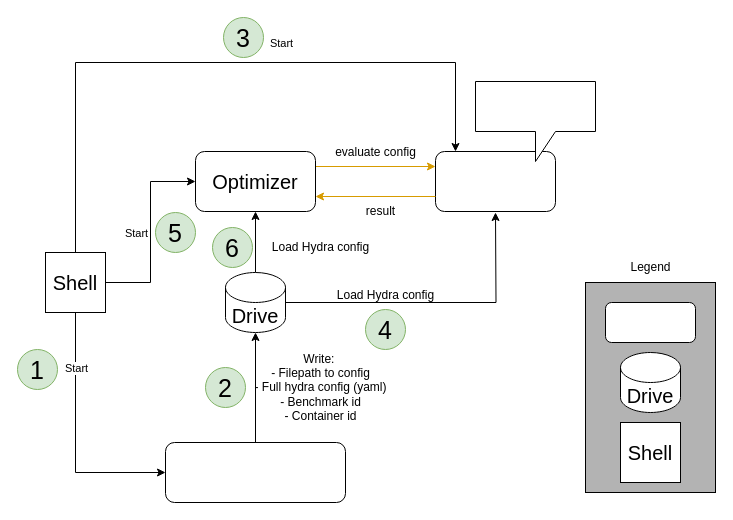
Image size: 733x520. Some labels were removed from this diagram. The centre of each missing label's shape, as x and y in pixels:
"Benchmark" goes at (495,181).
"Container" goes at (650,322).
"HydraInitializer" goes at (255,472).
"Webserver" goes at (535,121).
